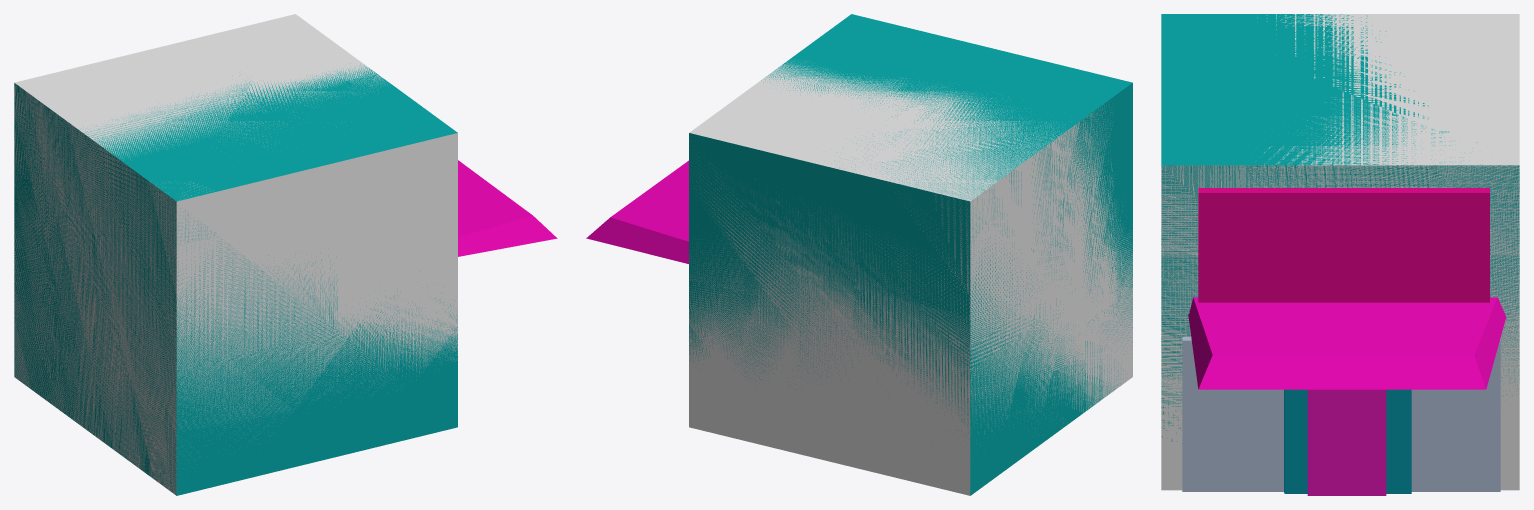
File: olivers.fbx
3 views of the same model, side by side, from view 1: azimuth 30°, elevation 25°; view 2: azimuth 150°, elevation 25°; view 3: azimuth 270°, elevation 25° (orthographic). The views are drawn at different scales.
Parts seen in each view (by area): view 1: Cube, Cube.001, Cube.002; view 2: Cube, Cube.001, Cube.002; view 3: Cube, Cube.001, Cube.007, Cube.002, Cube.003, Cube.006, Cube.004.
Boxes of the visible parts, bbox=[...] form: Cube: bbox=[14, 14, 457, 495]; Cube.001: bbox=[14, 64, 457, 495]; Cube.002: bbox=[458, 160, 557, 256]; Cube: bbox=[689, 60, 1132, 495]; Cube.001: bbox=[689, 14, 1132, 495]; Cube.002: bbox=[586, 160, 688, 263]; Cube: bbox=[1161, 14, 1519, 490]; Cube.001: bbox=[1161, 14, 1519, 441]; Cube.007: bbox=[1198, 188, 1489, 302]; Cube.002: bbox=[1188, 297, 1506, 389]; Cube.003: bbox=[1182, 337, 1500, 491]; Cube.006: bbox=[1307, 389, 1386, 495]; Cube.004: bbox=[1284, 389, 1411, 493].
Bounding box in the file's own units: 284 × 200 × 200.
